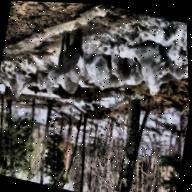boar: (43, 19, 90, 92)
